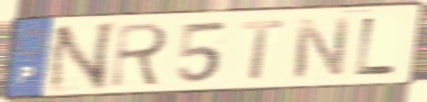5: (173, 19, 230, 85)
L: (352, 15, 400, 78)
N: (43, 19, 121, 95), (290, 15, 352, 81)
R: (107, 20, 172, 90)
T: (241, 17, 287, 82)
